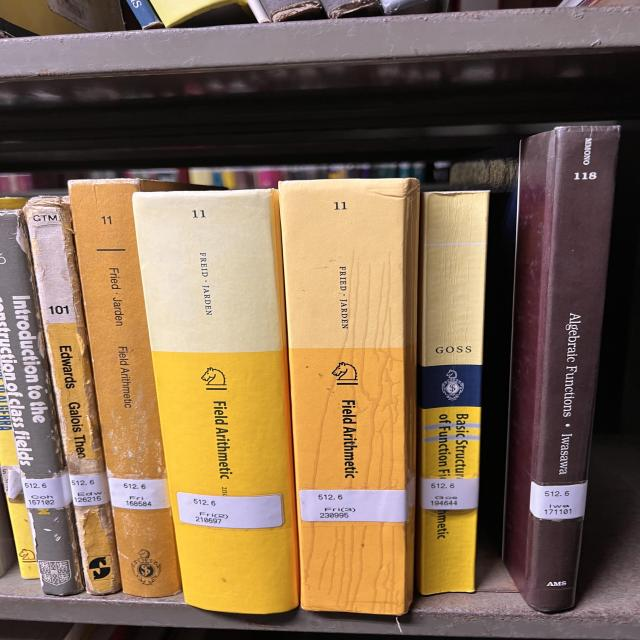Book: (132, 190, 298, 614), (278, 179, 420, 615), (68, 179, 207, 598), (503, 126, 620, 611), (25, 196, 120, 595), (0, 210, 83, 595), (417, 191, 488, 595), (0, 378, 37, 575)
Label: (177, 492, 283, 529), (298, 490, 408, 522), (530, 481, 587, 520), (108, 478, 170, 510), (420, 478, 478, 510), (22, 474, 72, 509), (68, 472, 110, 506)
